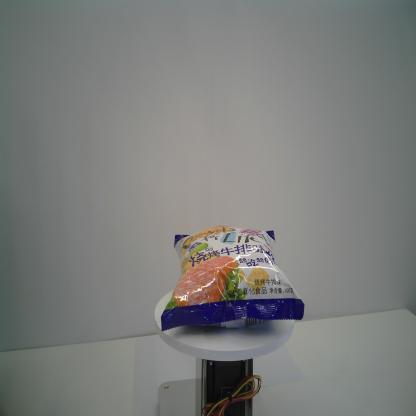Puffed Food: (160, 225, 304, 334)
